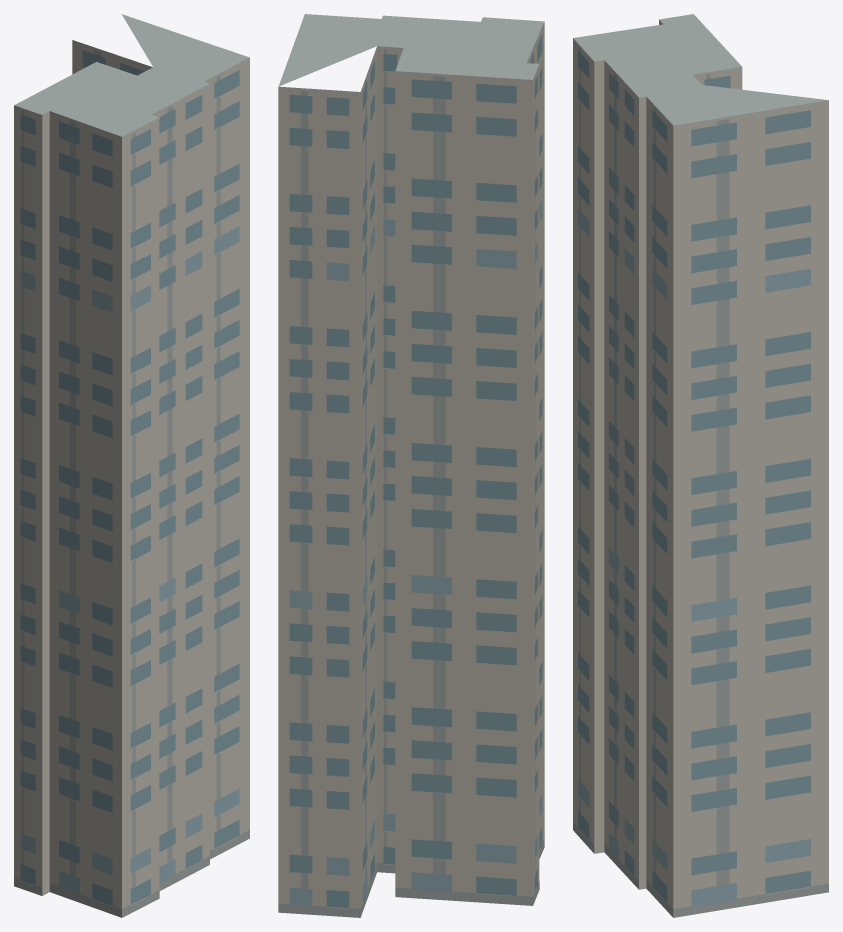
The model's file is survey-upis-32859198.glb.
The picture shows the model from 3 angles, left to right: view 1: azimuth 30°, elevation 25°; view 2: azimuth 150°, elevation 25°; view 3: azimuth 270°, elevation 25°; orthographic projection. The views are drawn at different scales.
Visible parts, largest first — view 1: survey-upis-32859198.tmp; view 2: survey-upis-32859198.tmp; view 3: survey-upis-32859198.tmp.
Boxes of the visible parts, box(x1,y1,x2,y2) form: survey-upis-32859198.tmp: box(14, 14, 249, 917); survey-upis-32859198.tmp: box(278, 14, 544, 917); survey-upis-32859198.tmp: box(573, 14, 828, 917).
Size of the model in its own units: 23.08 by 76.25 by 22.32.
